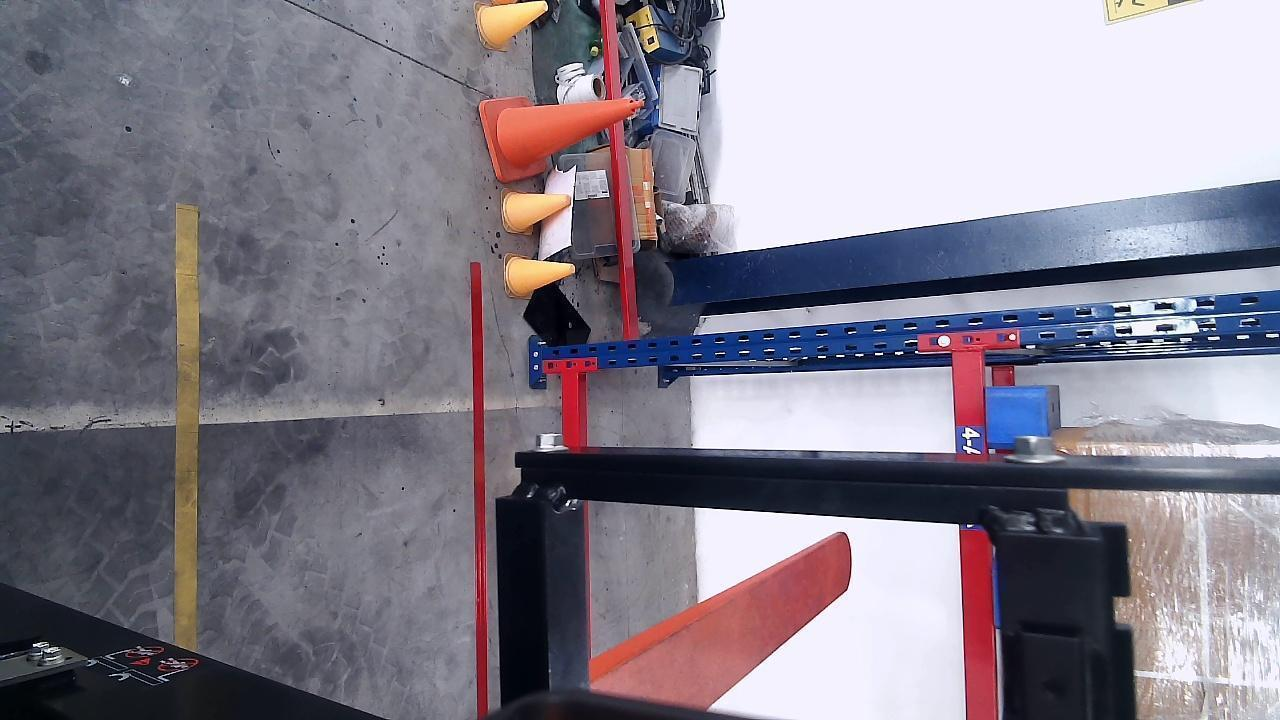red_line: (467, 262, 491, 715)
yellow_line: (174, 202, 199, 651)
